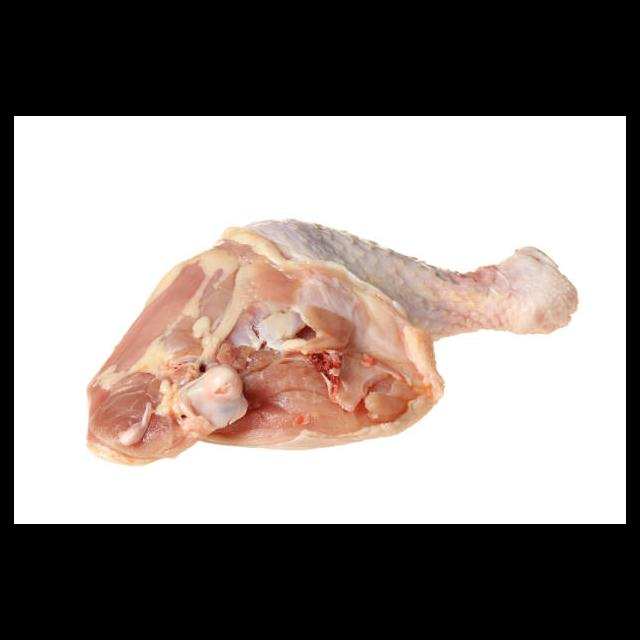chicken: (83, 219, 579, 464)
